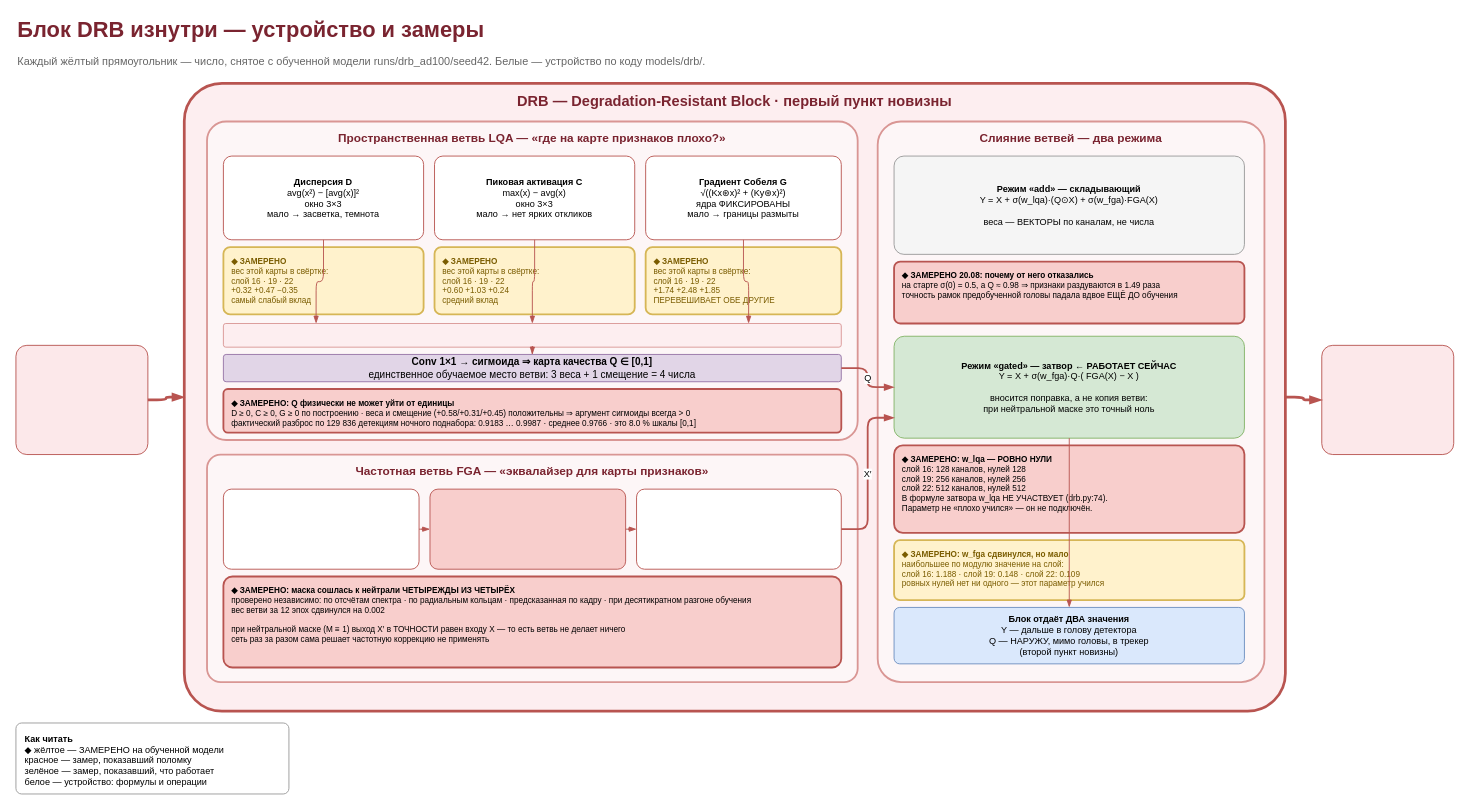
This 1470x810 diagram has some shape labels left out. The shapes that lost their labels are listed below. From the top down, each one's centre as x and y in pixels, then its label:
the point at 531,335: усреднение ПО КАНАЛАМ: (B,C,H,W) → (B,1,H,W) · склейка трёх карт в 3 канала
the point at 81,399: ВХОД карты признаков из шеи (B, C, H, W) C = 128 / 256 / 512
the point at 1387,399: ВЫХОД Y — в голову Q — в трекер (пока не идёт)
the point at 320,528: Прямое преобразование torch.fft.rfft2(x) признаки → спектр
the point at 527,528: Радиальная маска M обучаемая, по кольцам центр — низкие частоты край — высокие
the point at 738,528: Обратное преобразование torch.fft.irfft2(спектр × M) обратно в признаки X′
